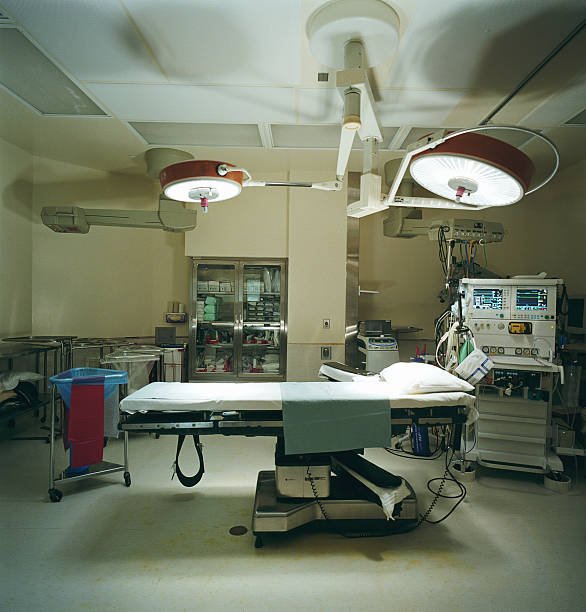cabinet: (191, 264, 288, 387)
handle: (232, 312, 246, 329)
medical_drawer: (476, 400, 549, 474)
operating_bed: (118, 362, 479, 548)
surgical_light: (405, 130, 537, 212), (153, 158, 251, 212)
utility_cart: (1, 334, 60, 443), (62, 329, 158, 389)
ventilator: (448, 277, 566, 492)
waste_bin: (47, 365, 132, 500)
